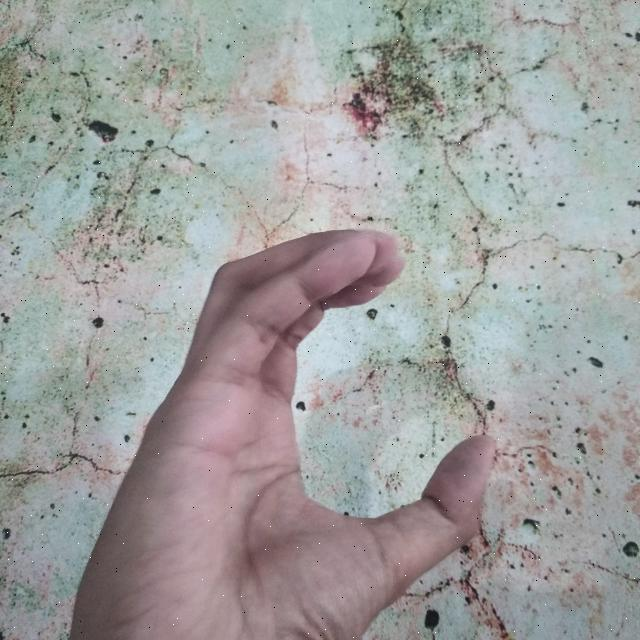C: (68, 228, 499, 640)
